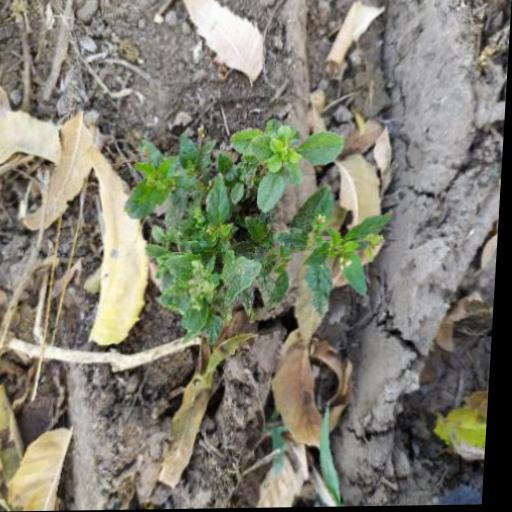weed: (114, 121, 400, 349)
